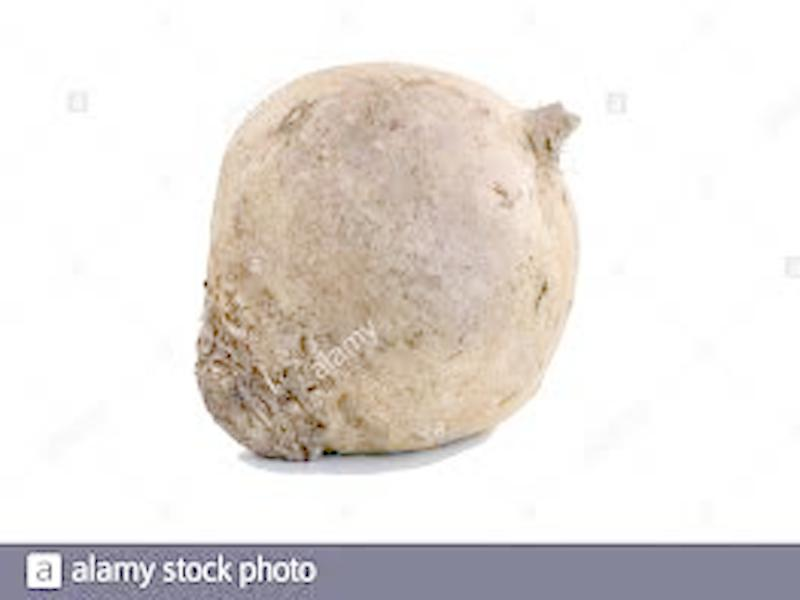Beet: (198, 62, 581, 459)
